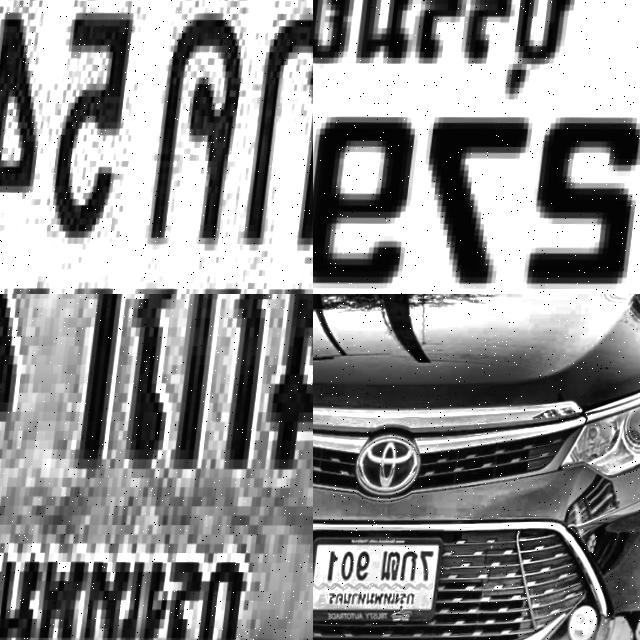license-plate: (0, 294, 313, 640), (313, 0, 640, 294), (0, 0, 313, 294), (313, 533, 454, 627)
